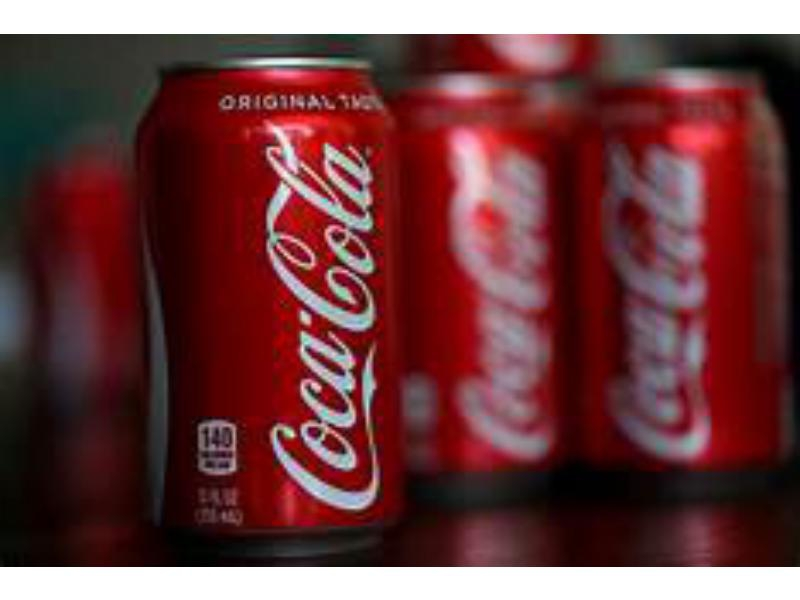can: (127, 55, 396, 547), (579, 63, 781, 501), (407, 65, 568, 493)
